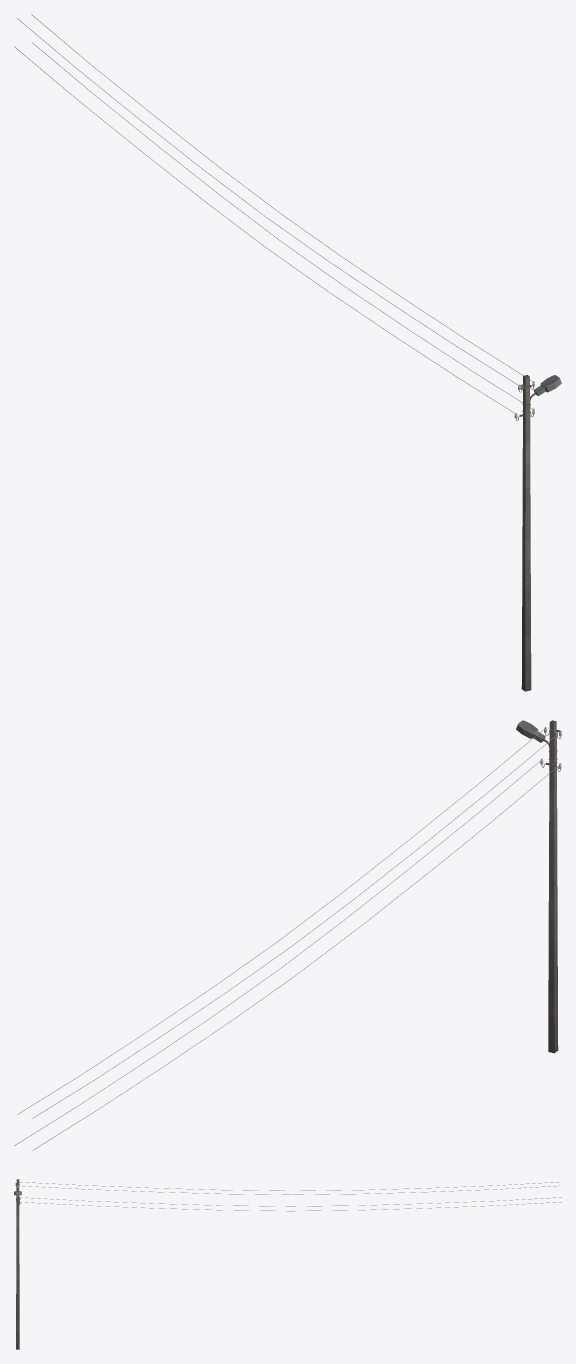
Rendered from Village1.FBX.
3 renders of one model, top to bottom at view 1: azimuth 30°, elevation 25°; view 2: azimuth 150°, elevation 25°; view 3: azimuth 270°, elevation 25°, orthographic. The views are drawn at different scales.
Parts seen in each view (by area): view 1: Village1, cabel; view 2: Village1, cabel; view 3: cabel, Village1.
Boxes of the visible parts, left/top/right/bottom form: Village1: left=514, top=375, right=561, bottom=691; cabel: left=14, top=14, right=532, bottom=413; Village1: left=516, top=720, right=561, bottom=1053; cabel: left=14, top=728, right=560, bottom=1150; cabel: left=18, top=1182, right=561, bottom=1211; Village1: left=14, top=1179, right=21, bottom=1349.
Bounding box in the file's own units: 1.26 × 25.64 × 8.74.
